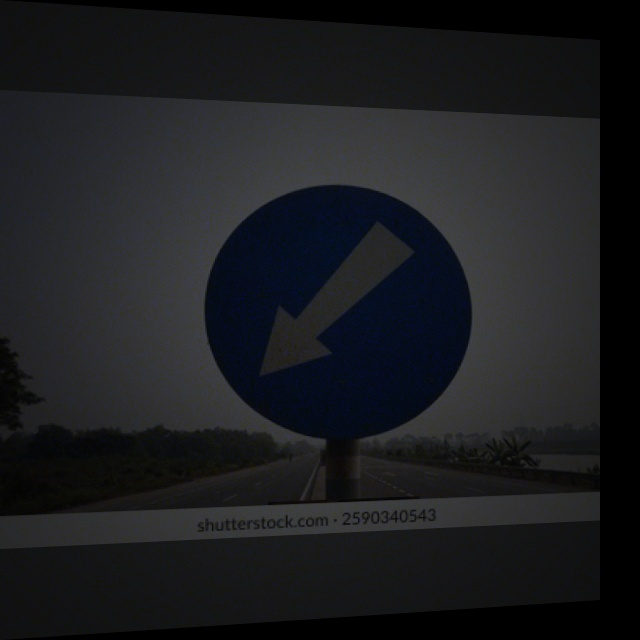Compulsory_Keep_Left: (207, 182, 470, 446)
